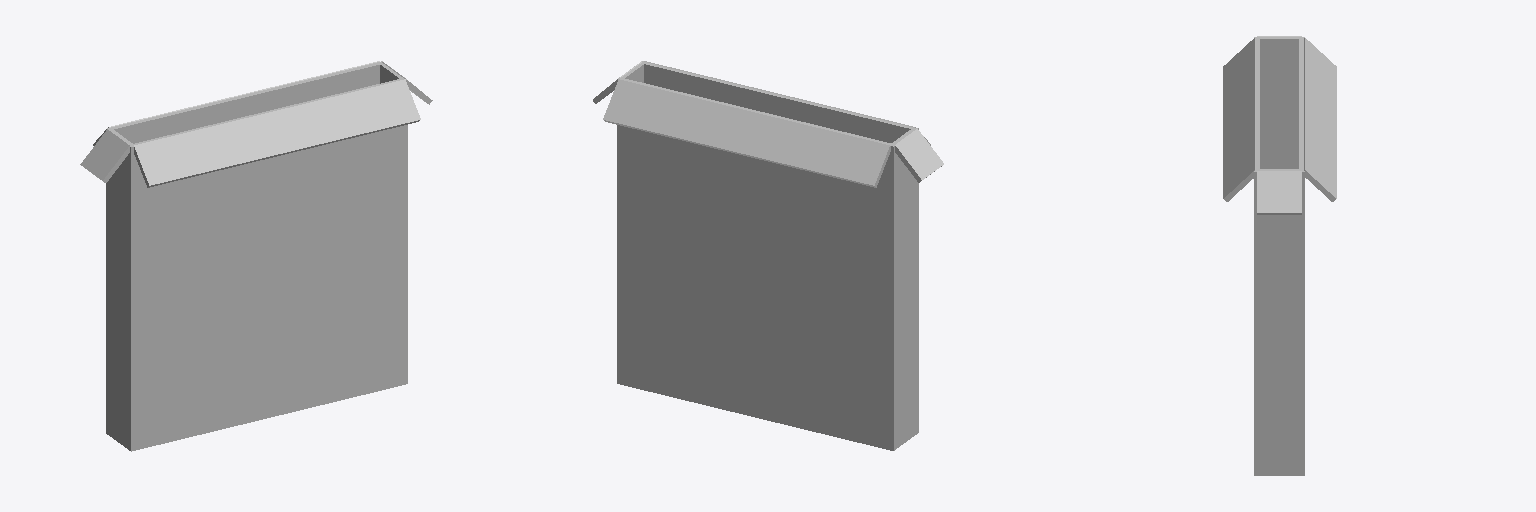
File: frootbox.obj
3 renders of one model, left to right at view 1: azimuth 30°, elevation 25°; view 2: azimuth 150°, elevation 25°; view 3: azimuth 270°, elevation 25°, orthographic.
Parts seen in each view (by area): view 1: Box002, Box009, Box004, Box001, Box007, Box003; view 2: Box001, Box008, Box004, Box002, Box007, Box003; view 3: Box003, Box004, Box008, Box009, Box006, Box001, Box002.
Part boxes in pixels (x1,y1,x2,y2): Box002: (133,78,404,450); Box009: (134,79,420,187); Box004: (106,128,135,451); Box001: (109,62,381,143); Box007: (80,129,129,182); Box003: (380,61,407,384); Box001: (619,78,891,449); Box008: (603,79,890,187); Box004: (889,128,918,450); Box002: (644,62,914,142); Box007: (895,129,943,182); Box003: (617,61,644,383); Box003: (1254,169,1304,475); Box004: (1254,37,1304,168); Box008: (1304,38,1336,201); Box009: (1223,38,1255,201); Box006: (1257,171,1301,214); Box001: (1299,38,1303,170); Box002: (1256,38,1259,170).
Bounding box in the file's own units: 170 × 150 × 50.58.